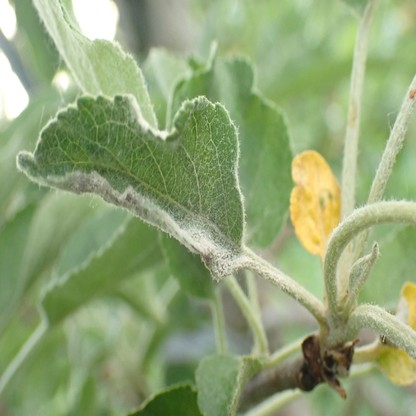powdery_mildew: (16, 92, 243, 280), (37, 0, 158, 130)
